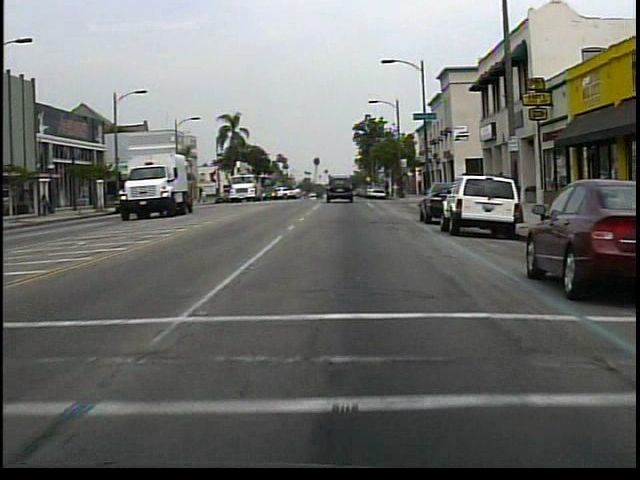person: (42, 192, 52, 218)
